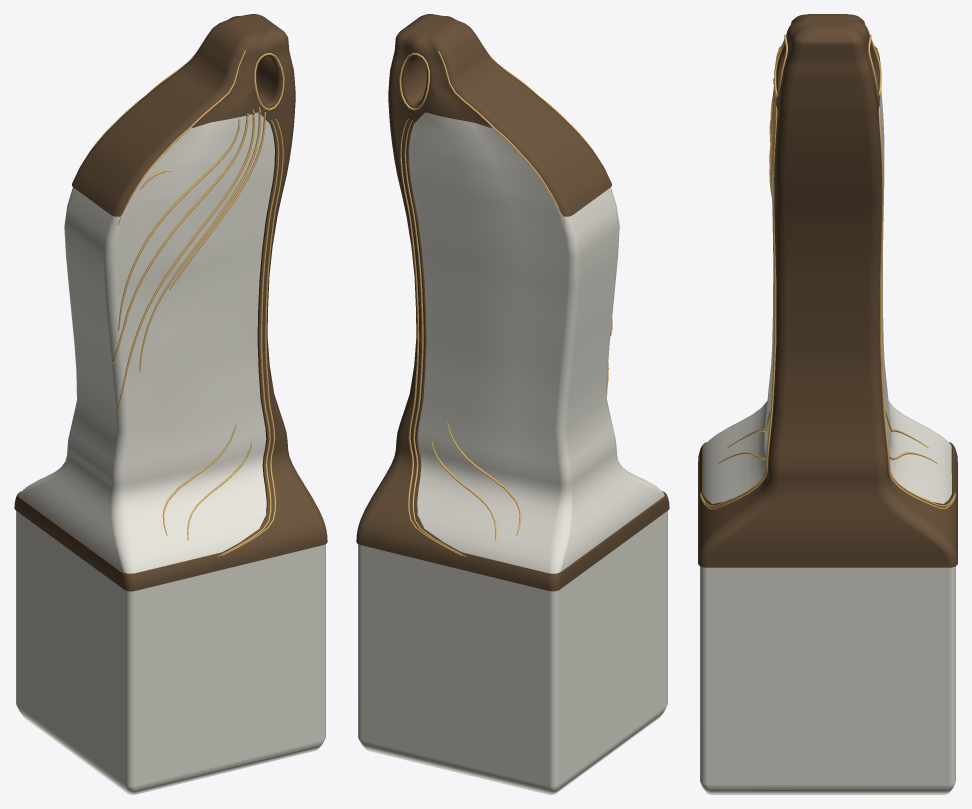
Rendered from QingGuiR03_StructureCandidate.glb.
3 views of the same model, side by side, from view 1: azimuth 30°, elevation 25°; view 2: azimuth 150°, elevation 25°; view 3: azimuth 270°, elevation 25° (orthographic). The views are drawn at different scales.
Visible parts, largest first — view 1: QingGuiR03_JadeCore_LOD0, QingGuiR03_BronzeFrame_LOD0, QingGuiR03_GoldWire_LOD0; view 2: QingGuiR03_JadeCore_LOD0, QingGuiR03_BronzeFrame_LOD0, QingGuiR03_GoldWire_LOD0; view 3: QingGuiR03_BronzeFrame_LOD0, QingGuiR03_JadeCore_LOD0, QingGuiR03_GoldWire_LOD0.
Part boxes in pixels (<box>): QingGuiR03_JadeCore_LOD0: <box>16,112,325,794</box>; QingGuiR03_BronzeFrame_LOD0: <box>14,14,327,591</box>; QingGuiR03_GoldWire_LOD0: <box>83,27,284,556</box>; QingGuiR03_JadeCore_LOD0: <box>358,112,667,794</box>; QingGuiR03_BronzeFrame_LOD0: <box>356,14,669,591</box>; QingGuiR03_GoldWire_LOD0: <box>399,27,612,556</box>; QingGuiR03_BronzeFrame_LOD0: <box>698,14,957,567</box>; QingGuiR03_JadeCore_LOD0: <box>700,90,955,794</box>; QingGuiR03_GoldWire_LOD0: <box>700,20,955,509</box>.
Bounding box in the file's own units: 0.1106 × 0.35 × 0.1076.
